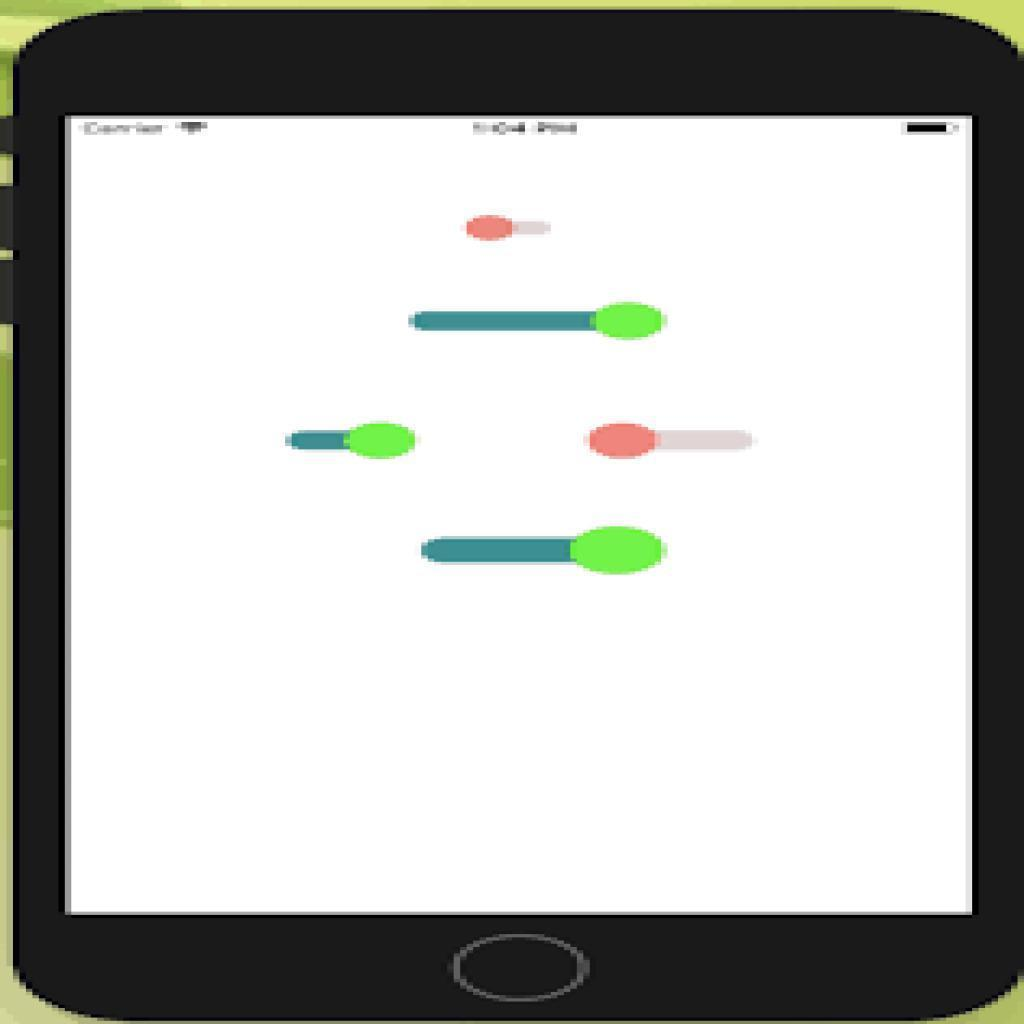switch: (422, 524, 664, 577), (410, 301, 669, 342), (587, 423, 755, 460), (283, 422, 418, 461), (462, 215, 554, 242)
